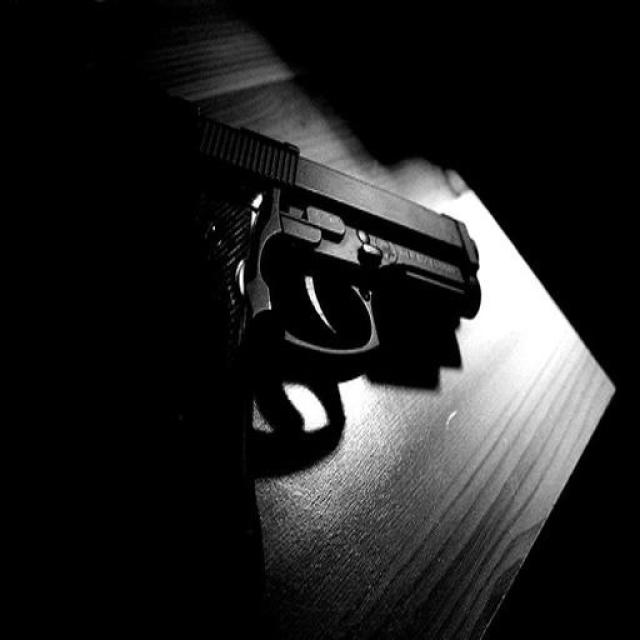pistol: (116, 70, 484, 506)
